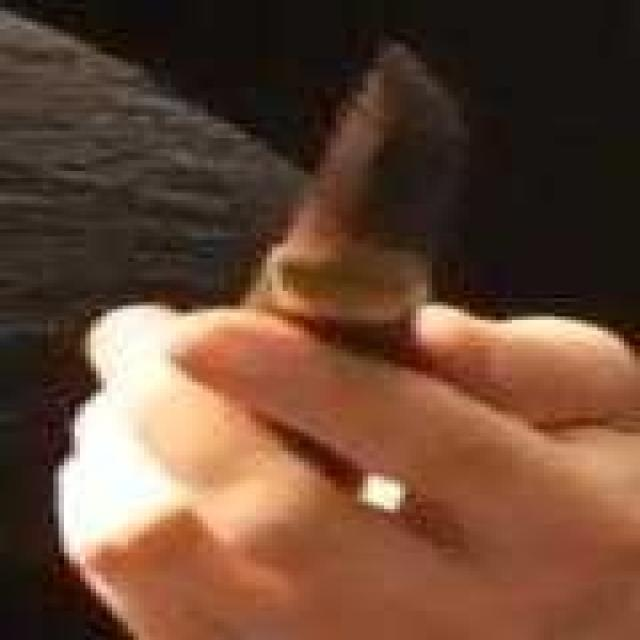Knife: (233, 41, 563, 578)
